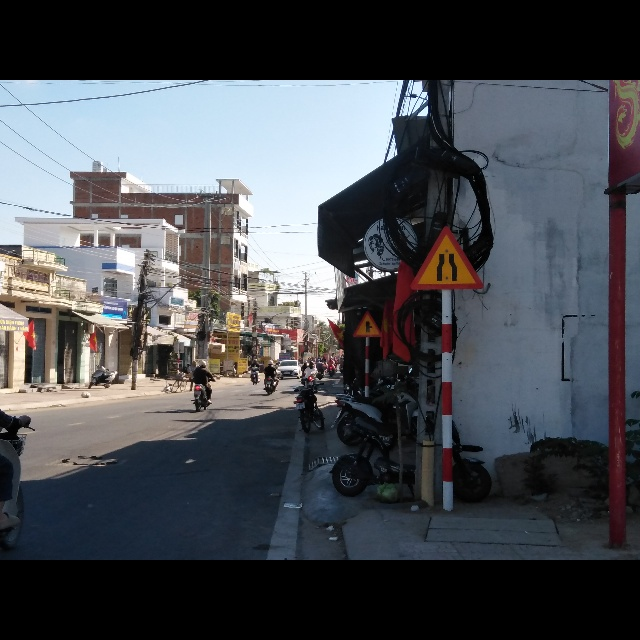Giao nhau với đường không ưu tiên: (352, 313, 381, 339)
Đường bị hẹp cả hai bên: (410, 227, 484, 291)
